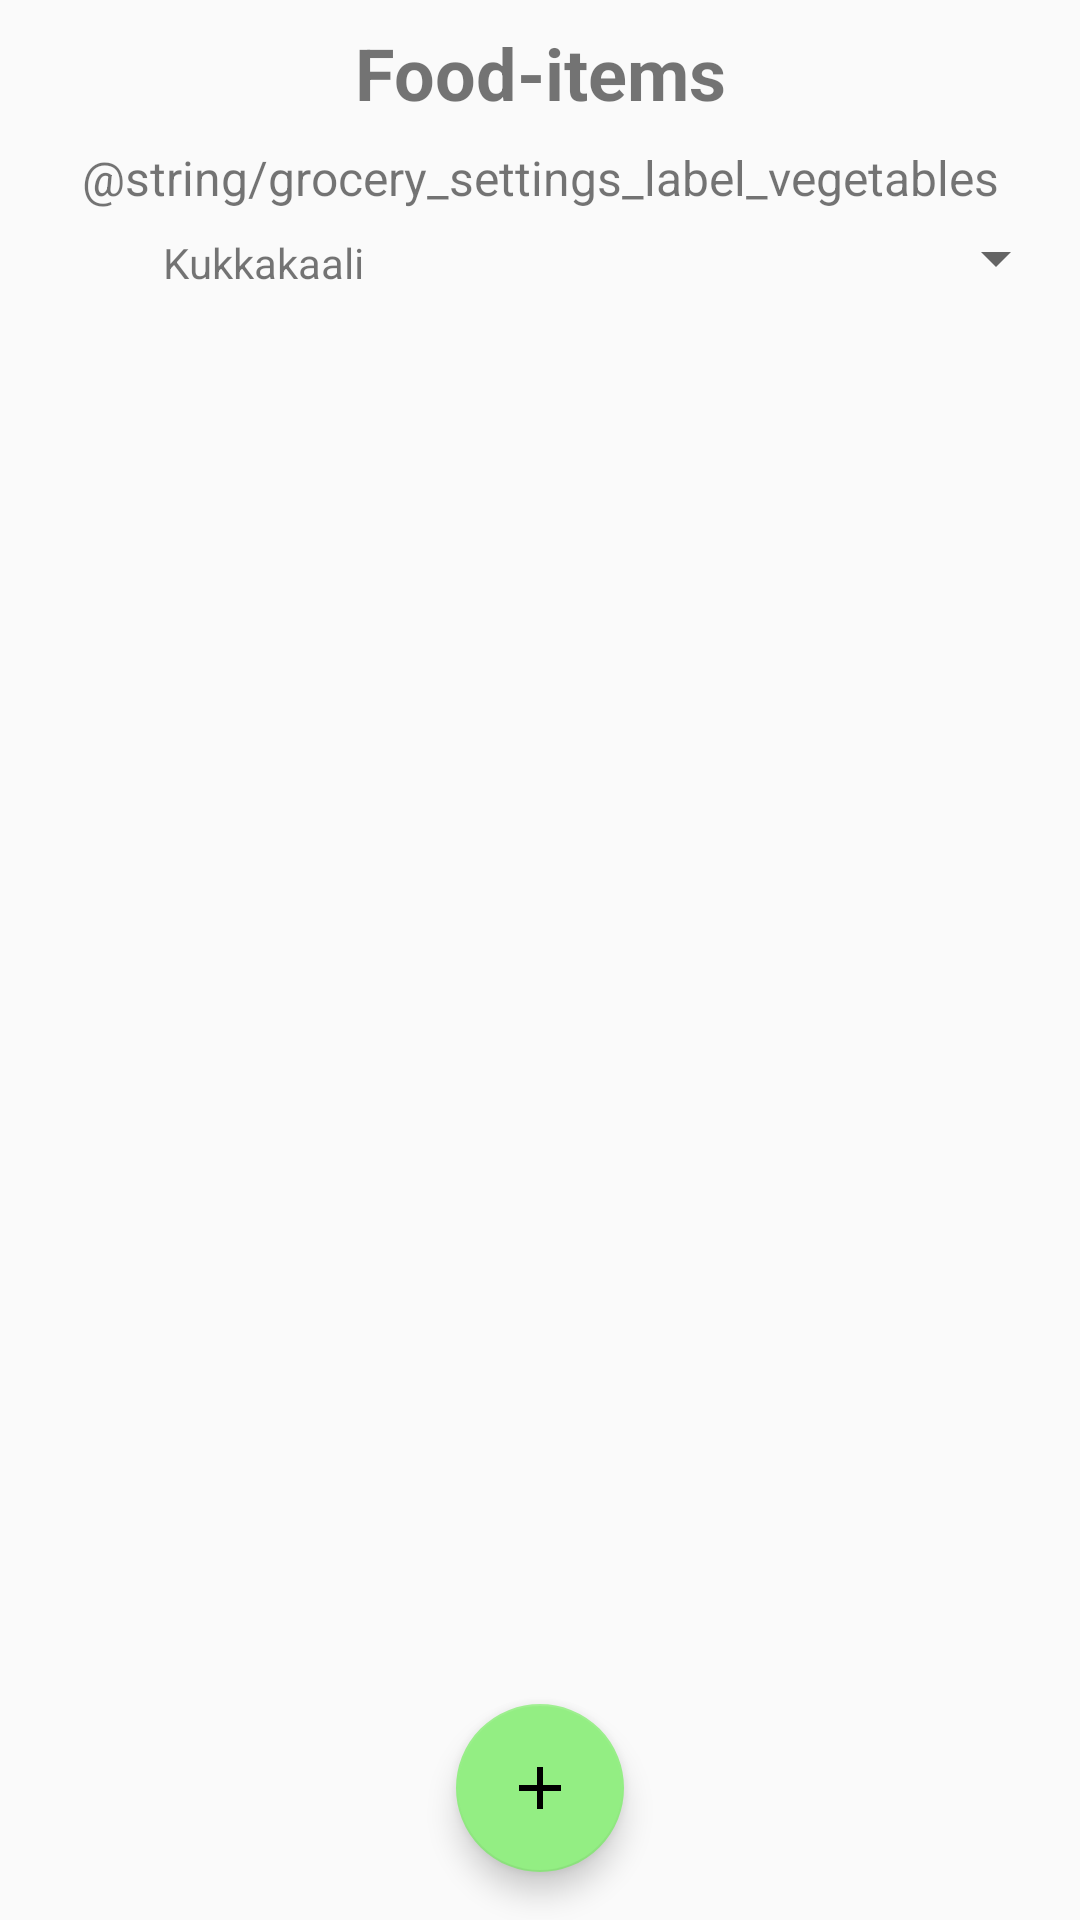

Point at icon controls on the screen. Image size 1080px×1920px, points as [x,y].
add: [540,1788]
